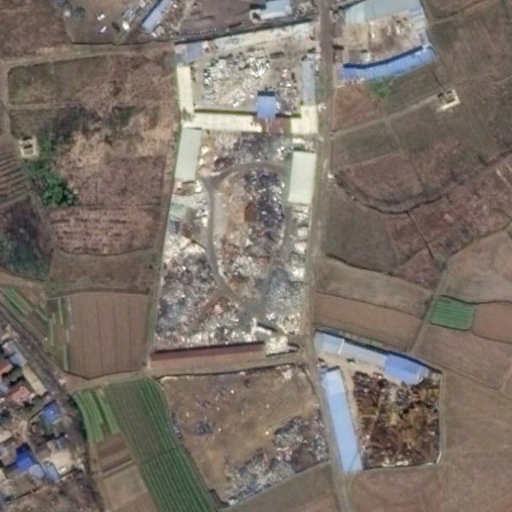msw: (157, 127, 317, 352), (215, 414, 327, 493)
